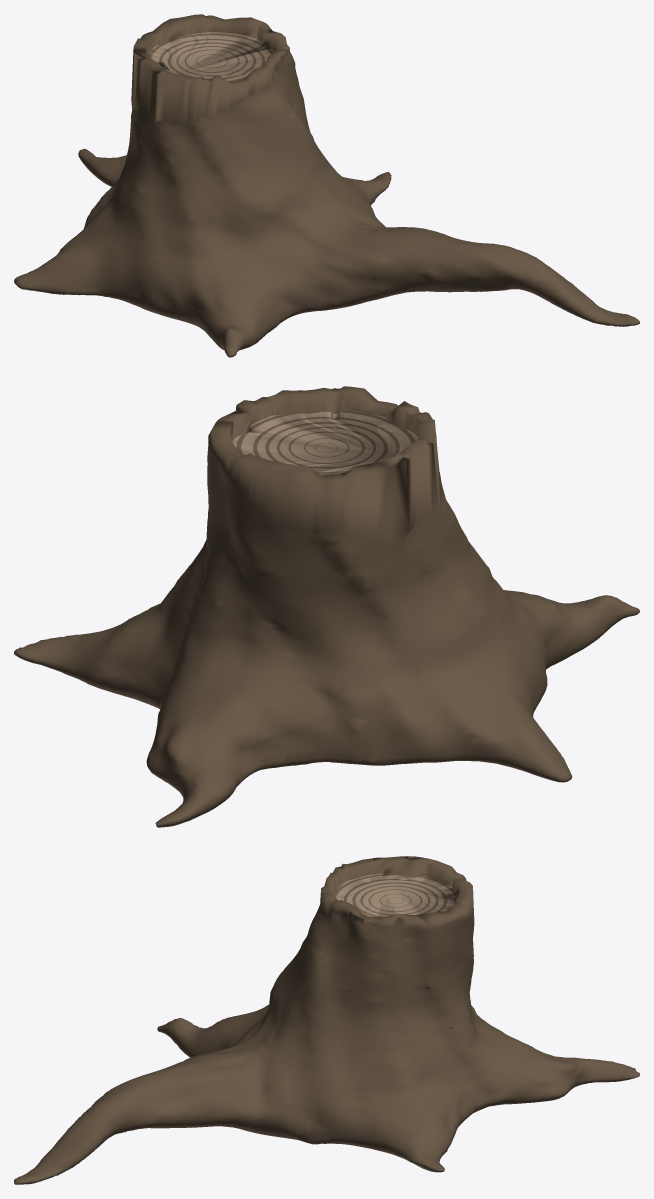
File: Tronco2.fbx
3 views of the same model, one above another, from view 1: azimuth 30°, elevation 25°; view 2: azimuth 150°, elevation 25°; view 3: azimuth 270°, elevation 25° (orthographic). The views are drawn at different scales.
Parts seen in each view (by area): view 1: tree_lp.001; view 2: tree_lp.001; view 3: tree_lp.001.
Part boxes in pixels (x1,y1,x2,y2): tree_lp.001: [14, 14, 639, 357]; tree_lp.001: [14, 386, 639, 827]; tree_lp.001: [14, 856, 639, 1184].
Size of the model in its own units: 295 by 149 by 390.
